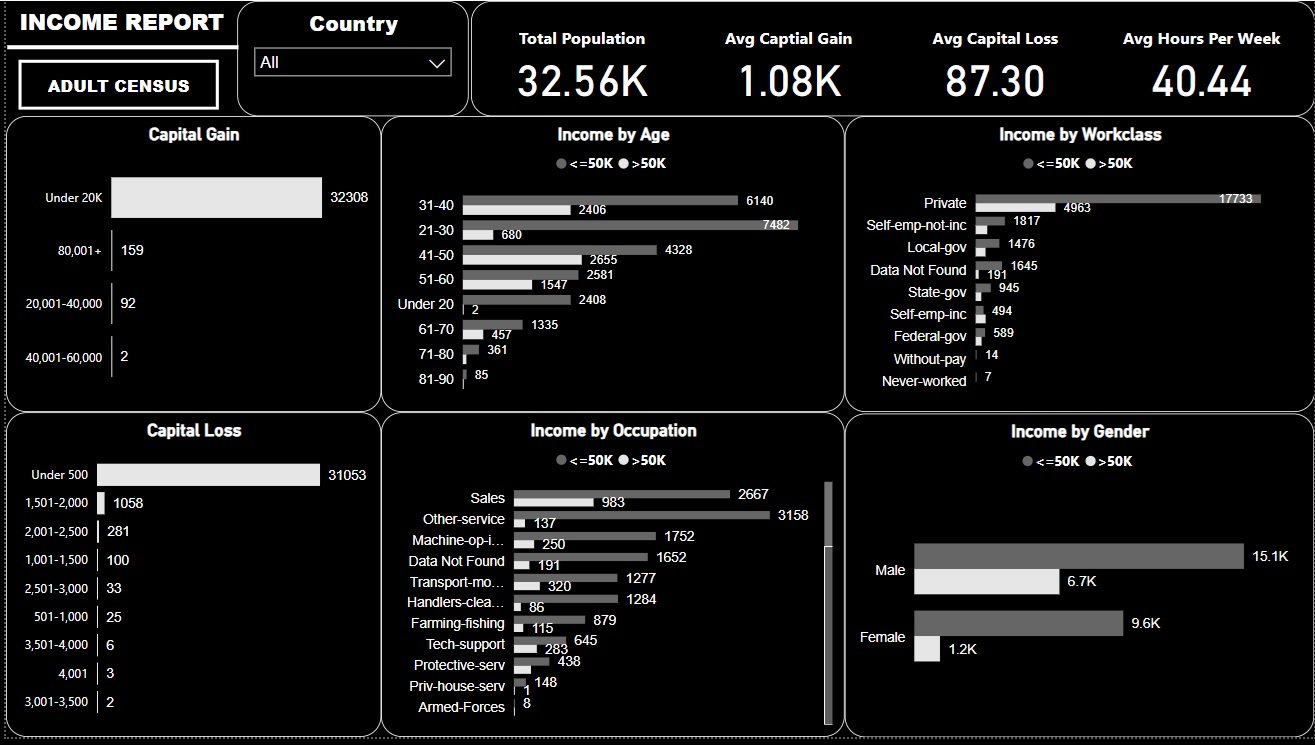

This screenshot's page, from the dashboard's own definition file:
{"tool":"powerbi","page":{"name":"Income_Report","canvas":[1280,720],"ordinal":1},"visuals":[{"type":"textbox","box":[0,0,226.2,45.2],"z":0},{"type":"cardVisual","fields":{"Data":["CountNonNull(adult.Gender)","Avg(adult.Captial Gain)","Avg(adult.capital.loss)","Avg(adult.hours.per.week)"]},"box":[454.9,0,825.4,112.5],"z":1000},{"type":"slicer","title":"Country","fields":{"Values":["adult.native.country"]},"box":[226.2,0,226.2,112.5],"z":2000},{"type":"shape","box":[1.2,39.1,226.2,12.2],"z":3000},{"type":"actionButton","box":[12,57,196,48.9],"z":4000},{"type":"clusteredBarChart","title":"Income by Age ","fields":{"Category":["adult.Age_Bracket"],"Y":["CountNonNull(adult.Age_Bracket)"],"Series":["adult.income($)"]},"box":[366.8,112.5,453.7,289.8],"z":5000},{"type":"clusteredBarChart","title":"Income by Workclass ","fields":{"Category":["adult.workclass"],"Y":["CountNonNull(adult.workclass)"],"Series":["adult.income($)"]},"box":[820.5,112.5,459.8,289.8],"z":6000},{"type":"clusteredBarChart","title":"Capital Gain ","fields":{"Category":["adult.Capital_Gain_Bracket"],"Y":["CountNonNull(adult.Capital_Gain_Bracket)"]},"box":[0,112.5,366.8,289.8],"z":7000},{"type":"barChart","title":"Capital Loss ","fields":{"Category":["adult.capital_loss_bracket"],"Y":["CountNonNull(adult.capital_loss_bracket)"]},"box":[0,402.3,366.8,317.9],"z":8000},{"type":"clusteredBarChart","title":"Income by Occupation ","fields":{"Series":["adult.income($)"],"Category":["adult.occupation"],"Y":["CountNonNull(adult.occupation)"]},"box":[366.8,402.3,453.7,317.9],"z":9000},{"type":"clusteredBarChart","title":"Income by Gender","fields":{"Category":["adult.Gender"],"Y":["CountNonNull(adult.Gender)"],"Series":["adult.income($)"]},"box":[821,403,459,317],"z":10000}]}

Visuals, with their boxes in screenshot pixels (x1, y1, x2, y2), scaled from the page's 1280x720 canvas onto the 1315x745 screenshot:
textbox: [x1=0, y1=0, x2=232, y2=47]
cardVisual - CountNonNull(adult.Gender) x Avg(adult.Captial Gain): [x1=467, y1=0, x2=1314, y2=116]
"Country" slicer: [x1=232, y1=0, x2=465, y2=116]
shape: [x1=1, y1=40, x2=234, y2=53]
actionButton: [x1=12, y1=59, x2=214, y2=110]
"Income by Age " clusteredBarChart: [x1=377, y1=116, x2=843, y2=416]
"Income by Workclass " clusteredBarChart: [x1=843, y1=116, x2=1314, y2=416]
"Capital Gain " clusteredBarChart: [x1=0, y1=116, x2=377, y2=416]
"Capital Loss " barChart: [x1=0, y1=416, x2=377, y2=744]
"Income by Occupation " clusteredBarChart: [x1=377, y1=416, x2=843, y2=744]
"Income by Gender" clusteredBarChart: [x1=843, y1=417, x2=1314, y2=744]
